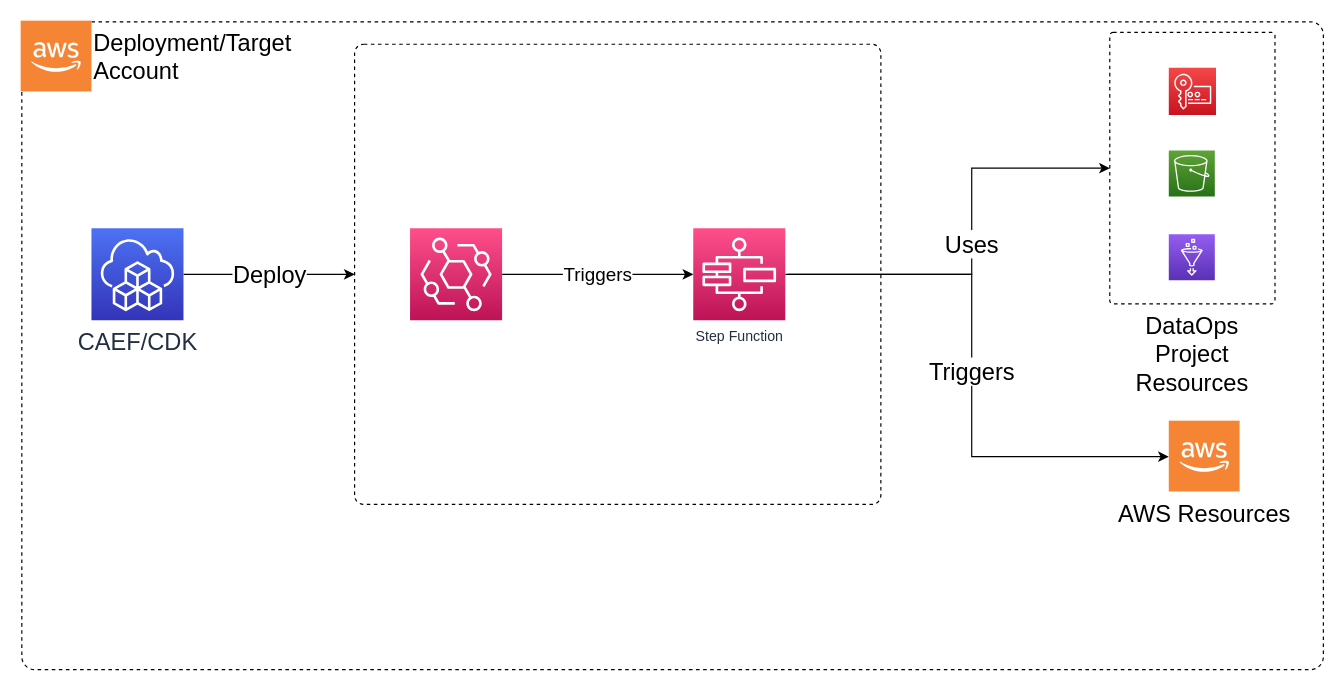
Some shapes in this 1344 by 690 pixel diagram are drawn without their labels. Here are the shapes that lost their labels. From the top down, the box of each, then its label:
(409, 227, 502, 320): EventBridge Rules
(353, 43, 881, 504): Deployed Resources
